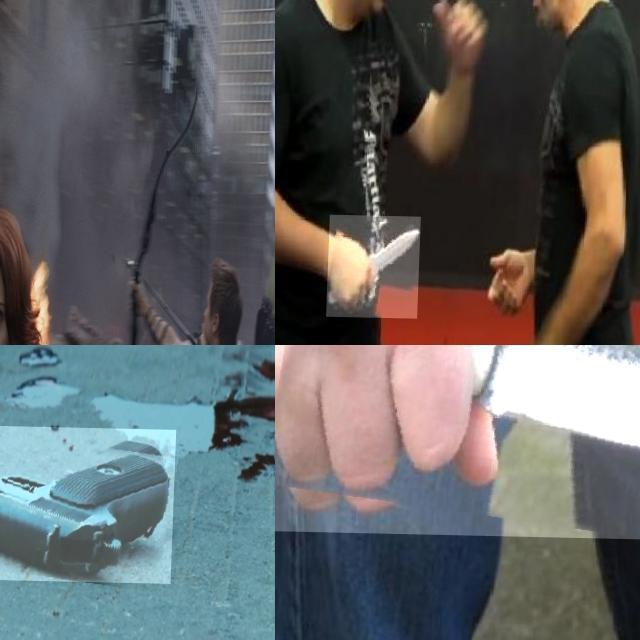-: (275, 345, 640, 540), (329, 214, 424, 318)
gun-knife-thesis - v11 Yolov5 augmented: (0, 421, 178, 581)
